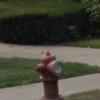Hydrant: (28, 39, 70, 100)
